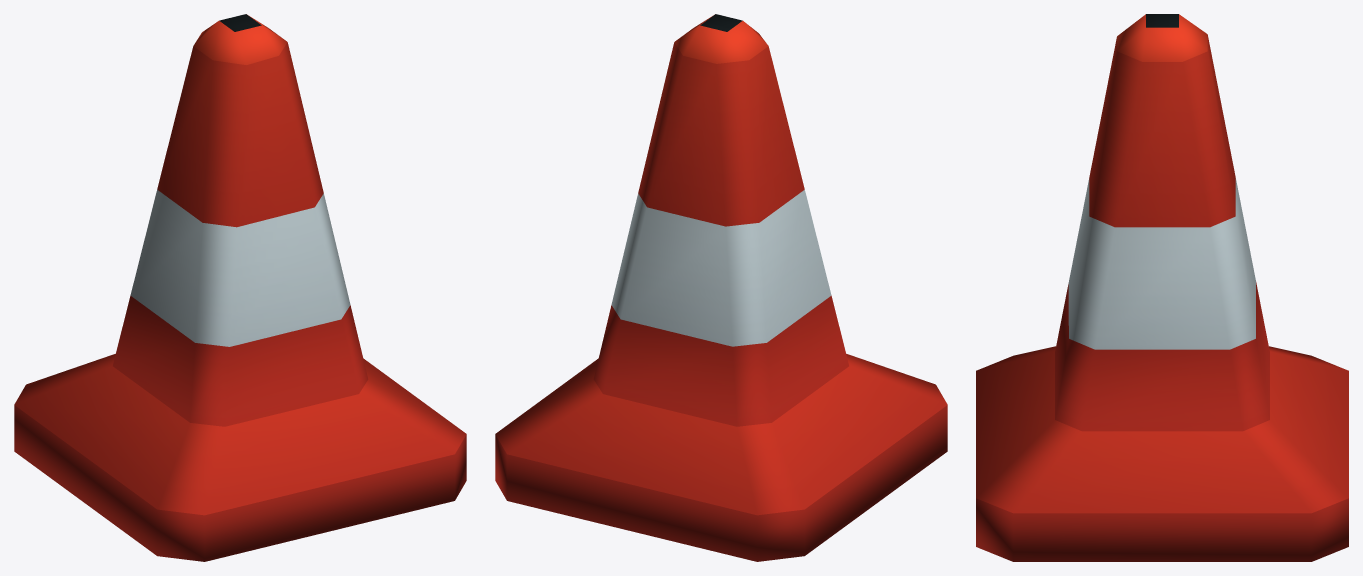
File: traffic_cone.fbx
3 views of the same model, side by side, from view 1: azimuth 30°, elevation 25°; view 2: azimuth 150°, elevation 25°; view 3: azimuth 270°, elevation 25° (orthographic). The views are drawn at different scales.
Visible parts, largest first — view 1: traffic_cone; view 2: traffic_cone; view 3: traffic_cone.
Boxes of the visible parts, <box> form: traffic_cone: <box>14,14,466,561</box>; traffic_cone: <box>495,14,947,561</box>; traffic_cone: <box>976,14,1348,561</box>.
Bounding box in the file's own units: 86.83 × 119 × 86.83.
